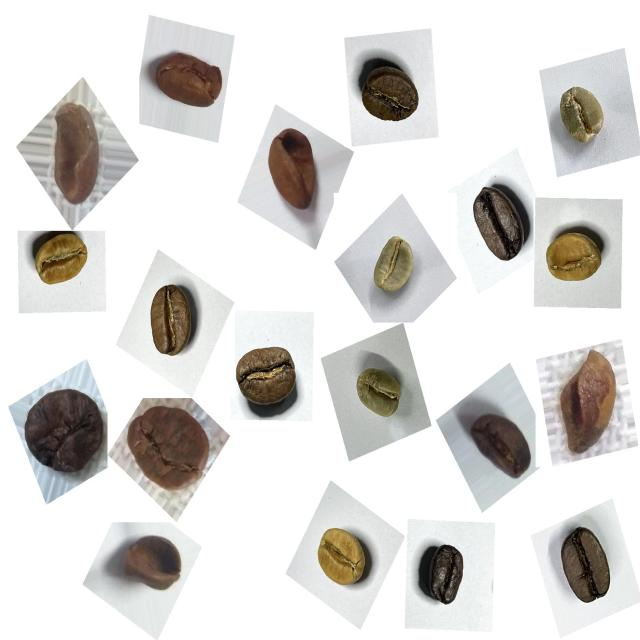bad: (16, 373, 110, 485), (125, 398, 219, 503), (549, 339, 627, 462), (42, 90, 114, 211), (255, 117, 329, 219), (146, 36, 227, 122), (462, 398, 536, 486), (115, 524, 189, 606)
dark: (547, 519, 624, 616), (461, 175, 537, 272), (412, 534, 480, 618)
green: (550, 74, 618, 156), (344, 355, 412, 432), (365, 228, 427, 308)
light: (540, 216, 614, 300), (310, 519, 380, 602), (26, 230, 98, 298)
medium: (352, 53, 430, 138), (228, 334, 306, 417), (138, 275, 207, 368)
